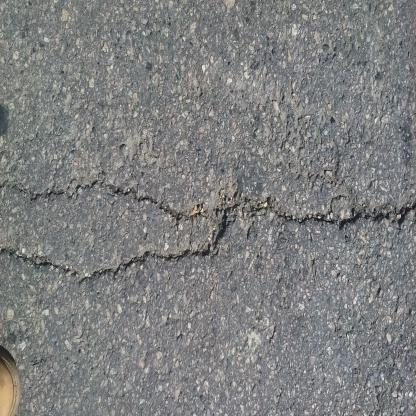Cracks: (0, 164, 415, 292)
